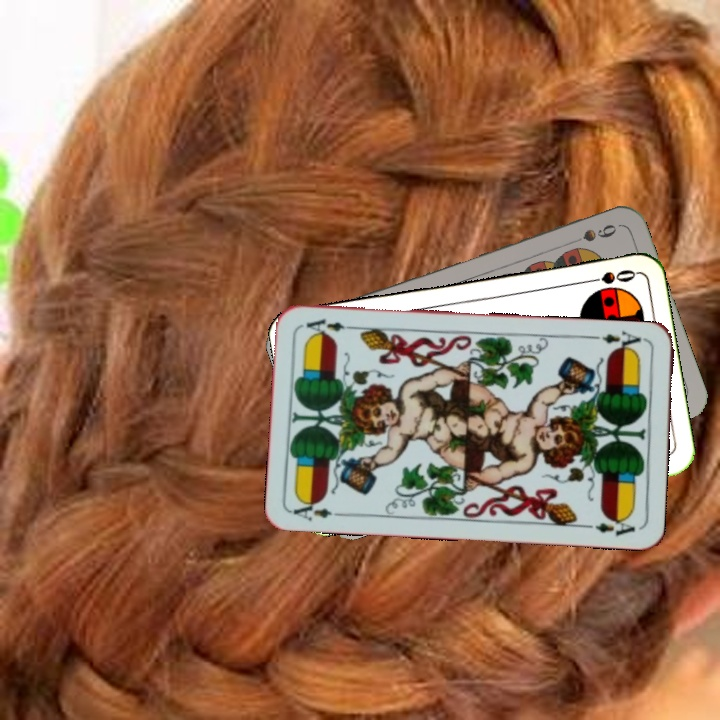EA: (598, 327, 648, 355), (289, 496, 334, 524)
S9: (563, 220, 619, 249)
SO: (579, 265, 638, 287)
